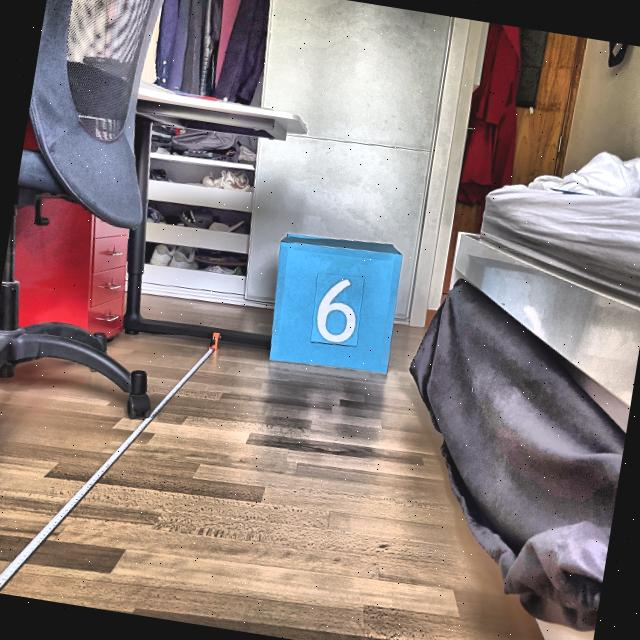blue box: (260, 226, 414, 382)
six: (310, 271, 366, 347)
